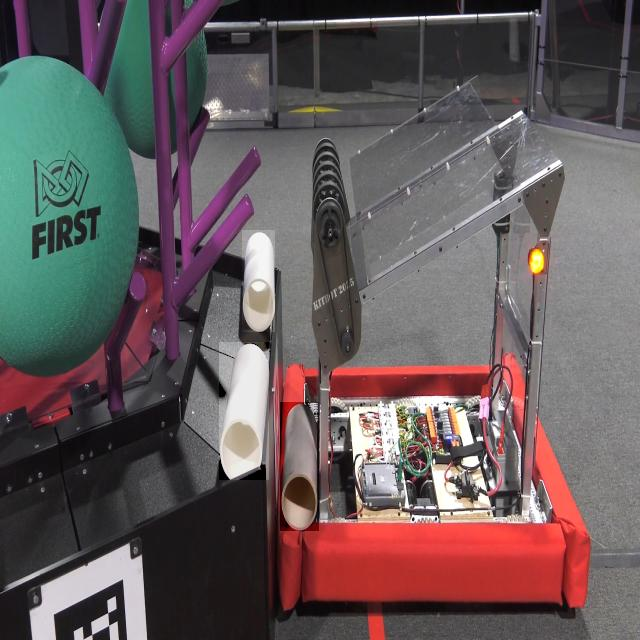Coral: (219, 342, 269, 480), (280, 402, 319, 531), (242, 230, 275, 332)
